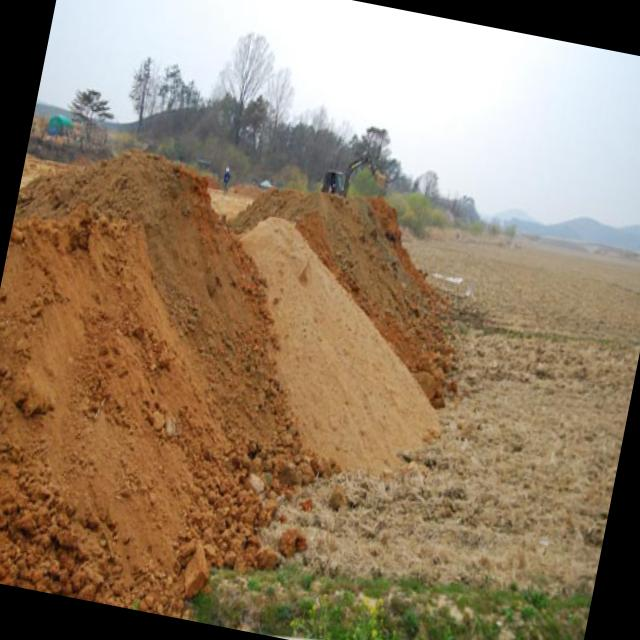red-sand: (0, 153, 458, 619)
white-sand: (284, 231, 640, 589)
